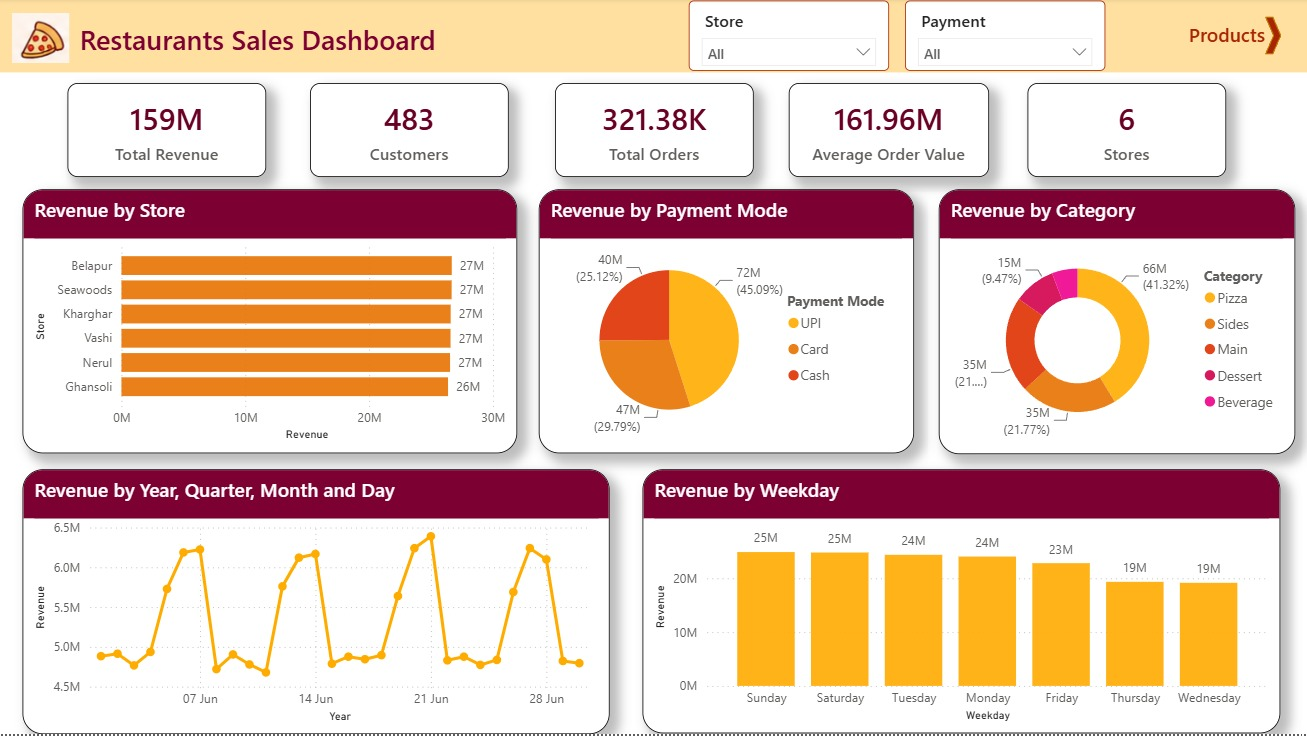

Layout of this report page (visuals, bound fields, positions):
{"tool":"powerbi","page":{"name":"Overview","canvas":[1280,720],"ordinal":0},"visuals":[{"type":"textbox","box":[0,0,1280,72.9],"z":0},{"type":"clusteredBarChart","title":"Revenue by Store","fields":{"Category":["dim_stores.store_name"],"Y":["fact_sales.Revenue"]},"box":[22,187.1,484.2,258],"z":1000},{"type":"slicer","fields":{"Values":["dim_stores.store_name"]},"box":[673.8,2.4,195.7,68.6],"z":2000},{"type":"card","fields":{"Values":["fact_sales.Revenue"]},"box":[66,83.2,194.4,91.7],"z":3000},{"type":"lineChart","fields":{"Category":["fact_sales.order_date.Variation.Date Hierarchy.Year","fact_sales.order_date.Variation.Date Hierarchy.Quarter","fact_sales.order_date.Variation.Date Hierarchy.Month","fact_sales.order_date.Variation.Date Hierarchy.Day"],"Y":["fact_sales.Revenue"]},"box":[22,461,574.7,259.2],"z":4000},{"type":"card","fields":{"Values":["Count(fact_sales.customer_id)"]},"box":[303.3,83.2,194.4,91.7],"z":5000},{"type":"slicer","fields":{"Values":["fact_sales.payment_mode"]},"box":[885.3,2.4,195.7,68.6],"z":6000},{"type":"card","fields":{"Values":["Count(dim_stores.store_id)"]},"box":[1005.2,83.2,194.4,91.7],"z":7000},{"type":"card","fields":{"Values":["CountNonNull(fact_sales.order_id)"]},"box":[542.9,83.2,194.4,91.7],"z":8000},{"type":"donutChart","fields":{"Category":["dim_products.category"],"Y":["fact_sales.Revenue"]},"box":[918,186.6,348.5,259.3],"z":9000},{"type":"pieChart","fields":{"Category":["fact_sales.payment_mode"],"Y":["fact_sales.Revenue"]},"box":[527.1,187.1,367.1,258.6],"z":10000},{"type":"columnChart","fields":{"Category":["fact_sales.order_weekday"],"Y":["fact_sales.Revenue"]},"box":[628.6,461.4,624.3,258.6],"z":11000},{"type":"card","fields":{"Values":["fact_sales.Average Order Value"]},"box":[771.6,83.2,195.7,91.7],"z":12000},{"type":"image","box":[8.6,14.7,62.4,48.9],"z":13000},{"type":"actionButton","title":"Products","box":[1162.9,23.2,80.7,40.4],"z":13001},{"type":"shape","box":[1237.5,18.3,15.9,36.7],"z":13002}]}

Visuals, with their boxes in screenshot pixels (x1, y1, x2, y2), scaled from the page's 1280x720 canvas onto the 1307x736 screenshot:
textbox: (0, 0, 1306, 75)
"Revenue by Store" clusteredBarChart: (22, 191, 517, 455)
slicer - dim_stores.store_name: (688, 2, 888, 73)
card - fact_sales.Revenue: (67, 85, 266, 179)
lineChart - fact_sales.order_date.Variation.Date Hierarchy.Year x fact_sales.order_date.Variation.Date Hierarchy.Quarter: (22, 471, 609, 735)
card - Count(fact_sales.customer_id): (310, 85, 508, 179)
slicer - fact_sales.payment_mode: (904, 2, 1104, 73)
card - Count(dim_stores.store_id): (1026, 85, 1225, 179)
card - CountNonNull(fact_sales.order_id): (554, 85, 753, 179)
donutChart - dim_products.category x fact_sales.Revenue: (937, 191, 1293, 456)
pieChart - fact_sales.payment_mode x fact_sales.Revenue: (538, 191, 913, 456)
columnChart - fact_sales.order_weekday x fact_sales.Revenue: (642, 472, 1279, 735)
card - fact_sales.Average Order Value: (788, 85, 988, 179)
image: (9, 15, 72, 65)
"Products" actionButton: (1187, 24, 1270, 65)
shape: (1264, 19, 1280, 56)
